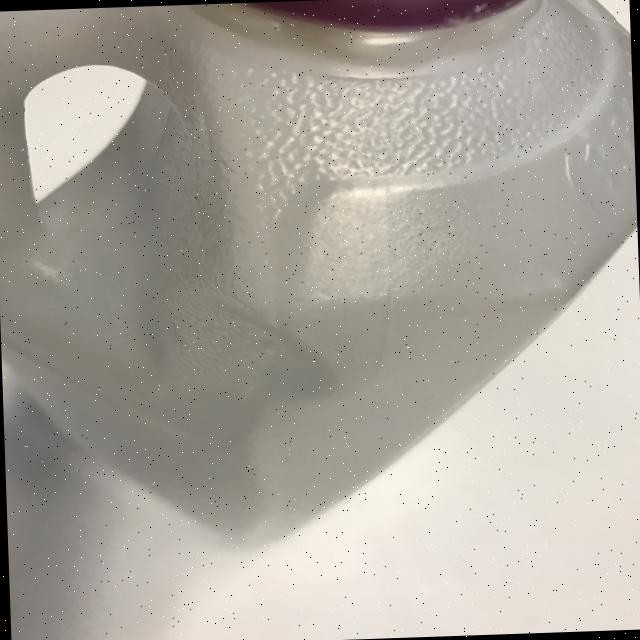plastic: (0, 0, 640, 562)
